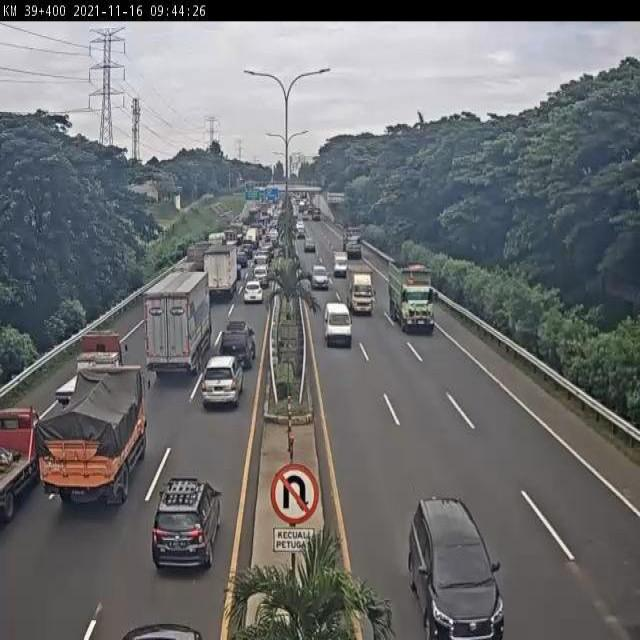car: (406, 493, 511, 639), (153, 475, 222, 572), (201, 355, 246, 412), (219, 315, 260, 368), (322, 303, 355, 348), (239, 278, 268, 306), (311, 261, 333, 295)
small truck: (54, 332, 128, 413), (0, 404, 47, 524)
truck-l-: (143, 268, 213, 377), (389, 260, 437, 339)
truck-m-: (31, 358, 153, 511), (206, 242, 238, 298), (349, 271, 381, 317)
